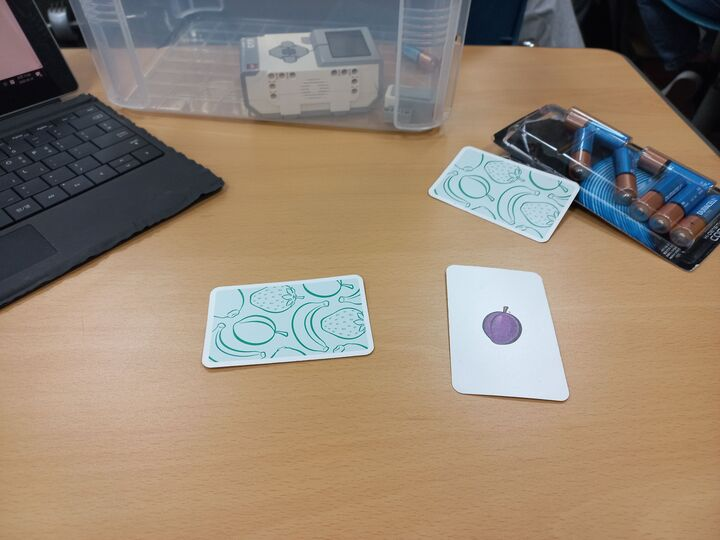plum1: (443, 261, 571, 405)
